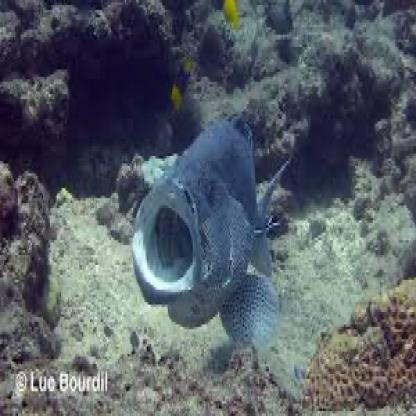Bio: (126, 106, 291, 354)
